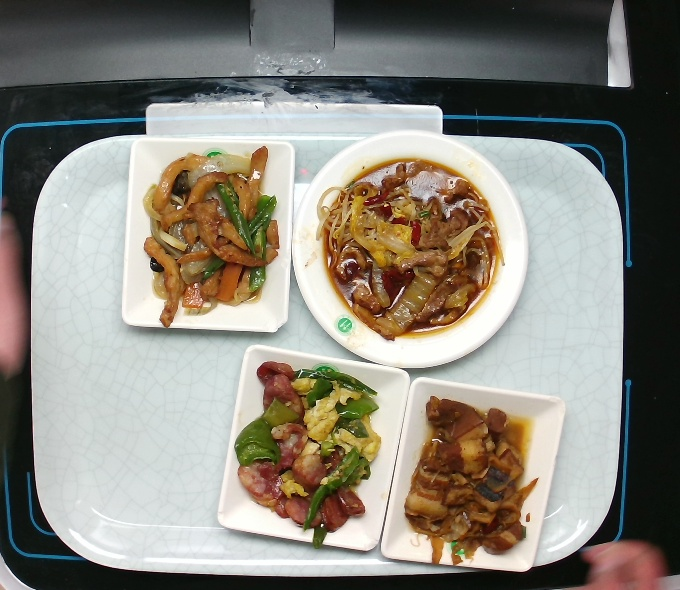wcq-HongShaoRou: (400, 395, 539, 568)
wcq-QingJiaoJiDanChaoDaChang: (231, 359, 383, 546)
wcq-QingJiaoRouSi: (141, 144, 279, 325)
wcq-ShuiZhuRouPian: (320, 156, 502, 340)
